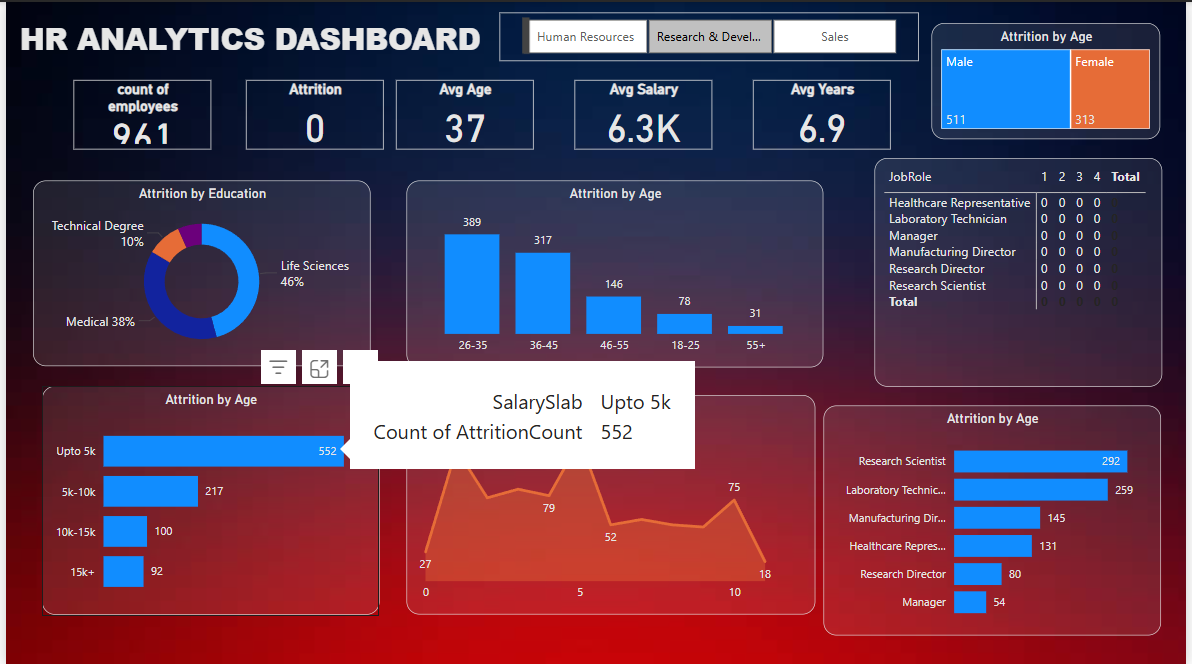

The dashboard page shown, as its layout file describes it:
{"tool":"powerbi","page":{"name":"Page 1","canvas":[1280,720],"ordinal":0},"visuals":[{"type":"card","title":"count of employees","fields":{"Values":["CountNonNull(HR_Analytics.EmpID)"]},"box":[73.9,84,149.5,75.6],"z":0},{"type":"card","title":"Attrition","fields":{"Values":["Min(HR_Analytics.AttritionCount)"]},"box":[260.4,84,149.5,75.6],"z":1000},{"type":"card","title":"Avg Age","fields":{"Values":["Avg(HR_Analytics.Age)"]},"box":[423.3,84,149.5,75.6],"z":2000},{"type":"card","title":"Avg Salary","fields":{"Values":["Avg(HR_Analytics.MonthlyIncome)"]},"box":[616.5,84,149.5,75.6],"z":3000},{"type":"card","title":"Avg Years","fields":{"Values":["Avg(HR_Analytics.YearsAtCompany)"]},"box":[809.7,84,149.5,75.6],"z":4000},{"type":"donutChart","title":"Attrition by Education","fields":{"Category":["HR_Analytics.EducationField"],"Y":["CountNonNull(HR_Analytics.AttritionCount)"]},"box":[28.6,193.2,366.2,201.6],"z":5000},{"type":"columnChart","title":"Attrition by Age","fields":{"Category":["HR_Analytics.AgeGroup"],"Y":["CountNonNull(HR_Analytics.AttritionCount)"]},"box":[433.7,192.8,452.1,202.7],"z":6000},{"type":"pivotTable","fields":{"Rows":["HR_Analytics.JobRole"],"Columns":["HR_Analytics.JobSatisfaction"],"Values":["Min(HR_Analytics.AttritionCount)"]},"box":[942.5,168.7,311.8,248],"z":7000},{"type":"barChart","title":"Attrition by Age","fields":{"Category":["HR_Analytics.SalarySlab"],"Y":["CountNonNull(HR_Analytics.AttritionCount)"]},"box":[39.7,416.7,365.7,248],"z":8000},{"type":"barChart","title":"Attrition by Age","fields":{"Category":["HR_Analytics.JobRole"],"Y":["CountNonNull(HR_Analytics.AttritionCount)"]},"box":[885.8,438,365.7,249.4],"z":9000},{"type":"areaChart","title":"Attrition by Age","fields":{"Category":["HR_Analytics.YearsAtCompany"],"Y":["CountNonNull(HR_Analytics.AttritionCount)"]},"box":[433.7,426.6,443.6,238.1],"z":10000},{"type":"treemap","title":"Attrition by Age","fields":{"Group":["HR_Analytics.Gender"],"Values":["CountNonNull(HR_Analytics.AttritionCount)"]},"box":[1003.5,22.7,248,126.1],"z":11000},{"type":"slicer","fields":{"Values":["HR_Analytics.Department"]},"box":[534.3,11.3,455,52.4],"z":12000},{"type":"textbox","box":[9.9,11.3,562.7,52.4],"z":13000}]}

Visuals, with their boxes in screenshot pixels (x1, y1, x2, y2), scaled from the page's 1280x720 canvas onto the 1192x664 screenshot:
"count of employees" card: <region>69, 77, 208, 147</region>
"Attrition" card: <region>242, 77, 382, 147</region>
"Avg Age" card: <region>394, 77, 533, 147</region>
"Avg Salary" card: <region>574, 77, 713, 147</region>
"Avg Years" card: <region>754, 77, 893, 147</region>
"Attrition by Education" donutChart: <region>27, 178, 368, 364</region>
"Attrition by Age" columnChart: <region>404, 178, 825, 365</region>
pivotTable - HR_Analytics.JobRole x HR_Analytics.JobSatisfaction: <region>878, 156, 1168, 384</region>
"Attrition by Age" barChart: <region>37, 384, 378, 613</region>
"Attrition by Age" barChart: <region>825, 404, 1165, 634</region>
"Attrition by Age" areaChart: <region>404, 393, 817, 613</region>
"Attrition by Age" treemap: <region>935, 21, 1165, 137</region>
slicer - HR_Analytics.Department: <region>498, 10, 921, 59</region>
textbox: <region>9, 10, 533, 59</region>
